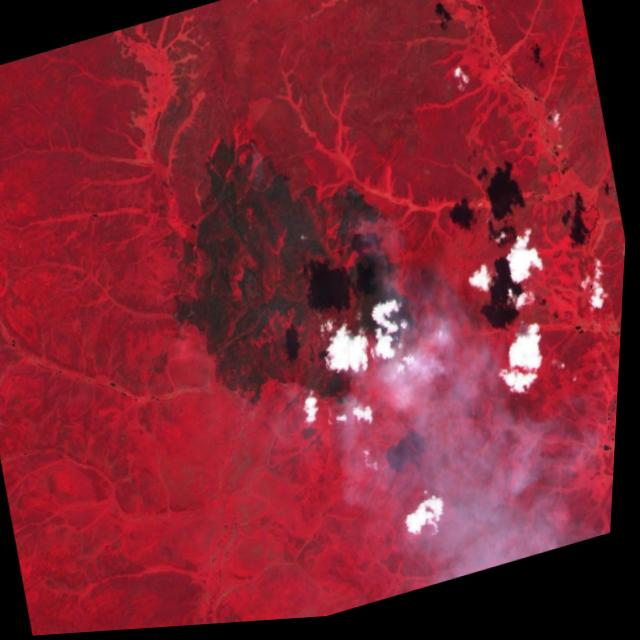fire: (248, 138, 267, 171)
